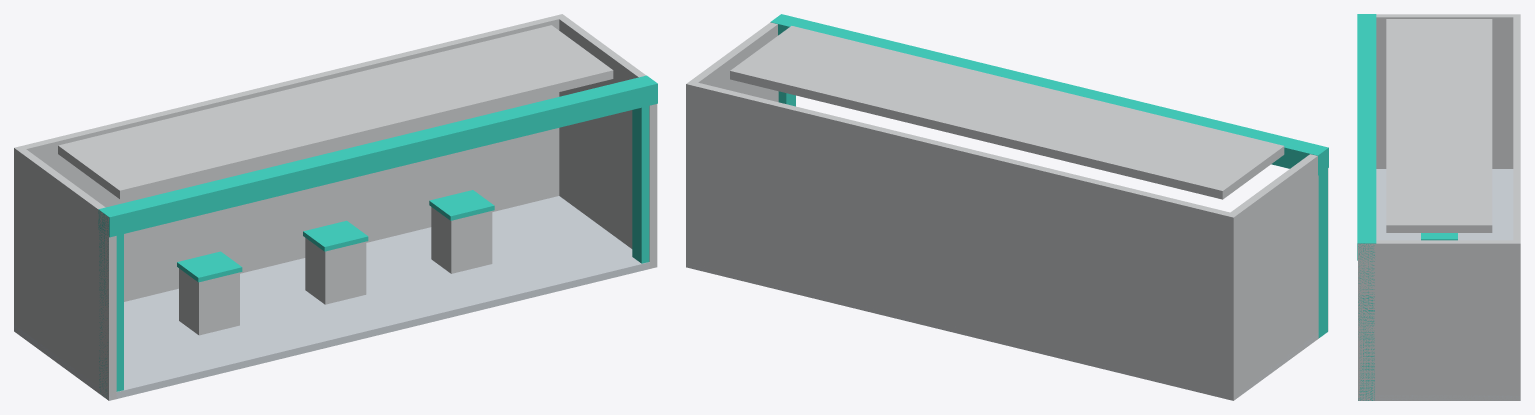
3 views of the same model, side by side, from view 1: azimuth 30°, elevation 25°; view 2: azimuth 150°, elevation 25°; view 3: azimuth 270°, elevation 25° (orthographic). The views are drawn at different scales.
Parts seen in each view (by area): view 1: Exhibition Booth Concept; view 2: Exhibition Booth Concept; view 3: Exhibition Booth Concept.
Boxes of the visible parts, x1,y1,x2,y2 form: Exhibition Booth Concept: [14, 14, 657, 400]; Exhibition Booth Concept: [686, 14, 1328, 400]; Exhibition Booth Concept: [1357, 14, 1520, 400].
Size of the model in its own units: 10 by 3.34 by 3.01.
